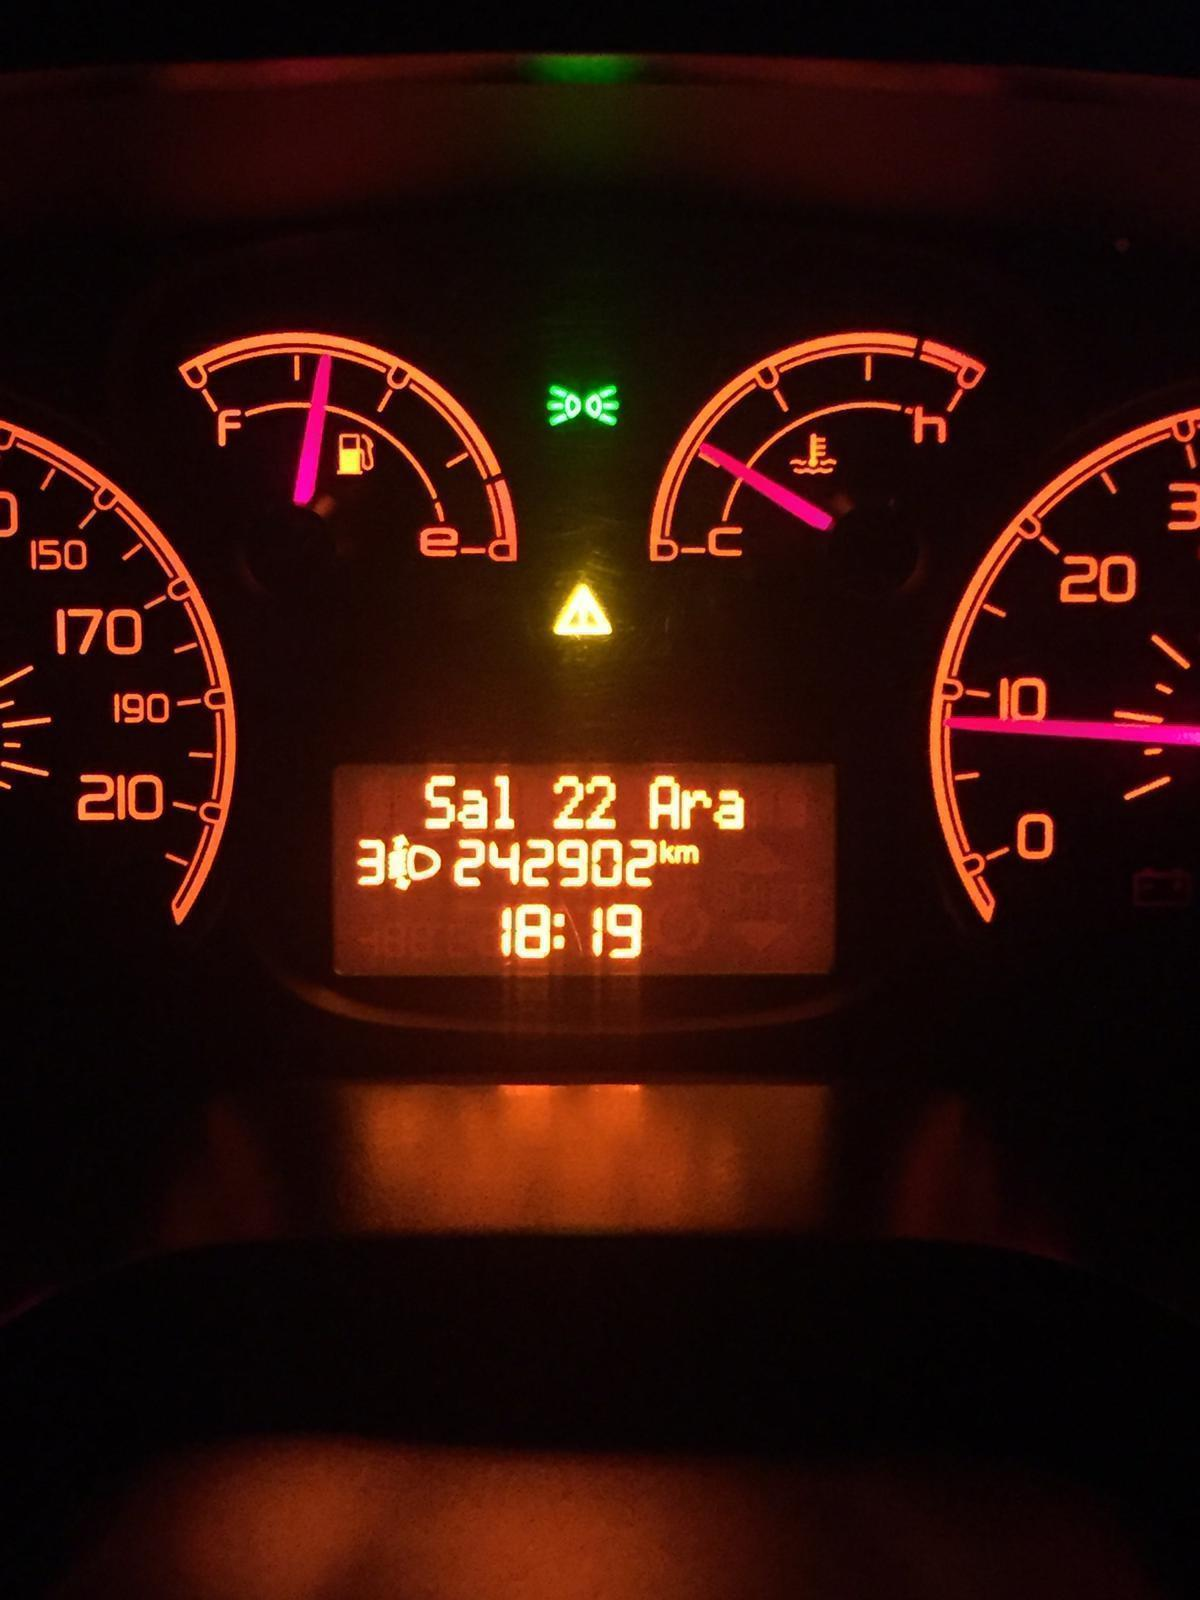0: (590, 837, 623, 889)
1: (495, 900, 514, 963), (590, 900, 605, 963)
2: (585, 771, 619, 830), (552, 774, 585, 830), (453, 837, 487, 889), (523, 837, 555, 889), (625, 837, 655, 889)
3: (355, 835, 384, 889)
4: (488, 837, 519, 889)
8: (516, 901, 548, 961)
9: (608, 901, 643, 960), (557, 835, 589, 888)
X: (492, 767, 522, 837), (422, 772, 458, 830), (645, 774, 681, 830), (713, 785, 753, 834), (458, 784, 488, 831), (681, 786, 711, 829), (550, 906, 570, 954), (677, 842, 700, 867), (659, 837, 676, 867)
odometer: (326, 755, 841, 981)
